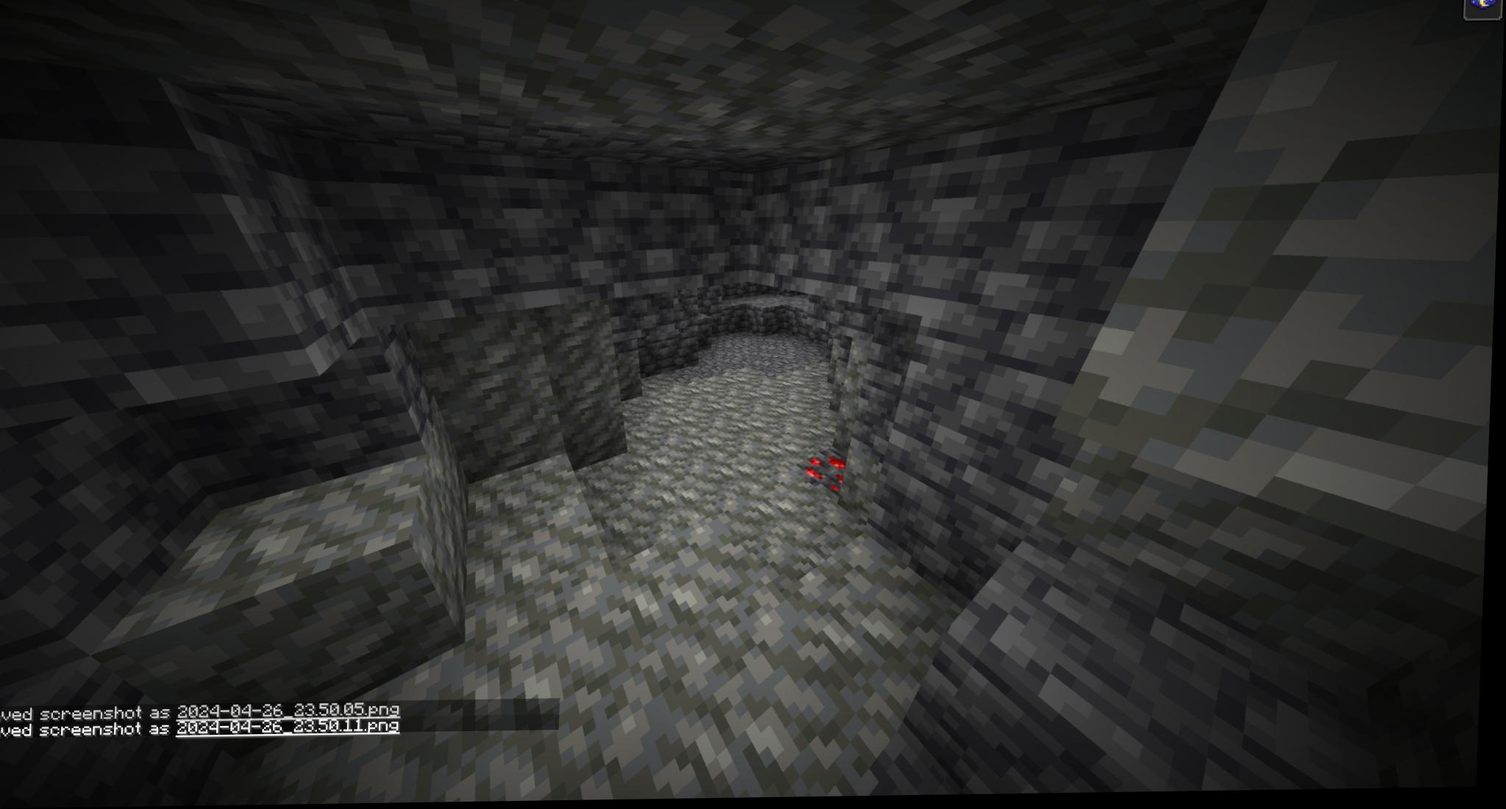redstone ore: (799, 444, 864, 493)
